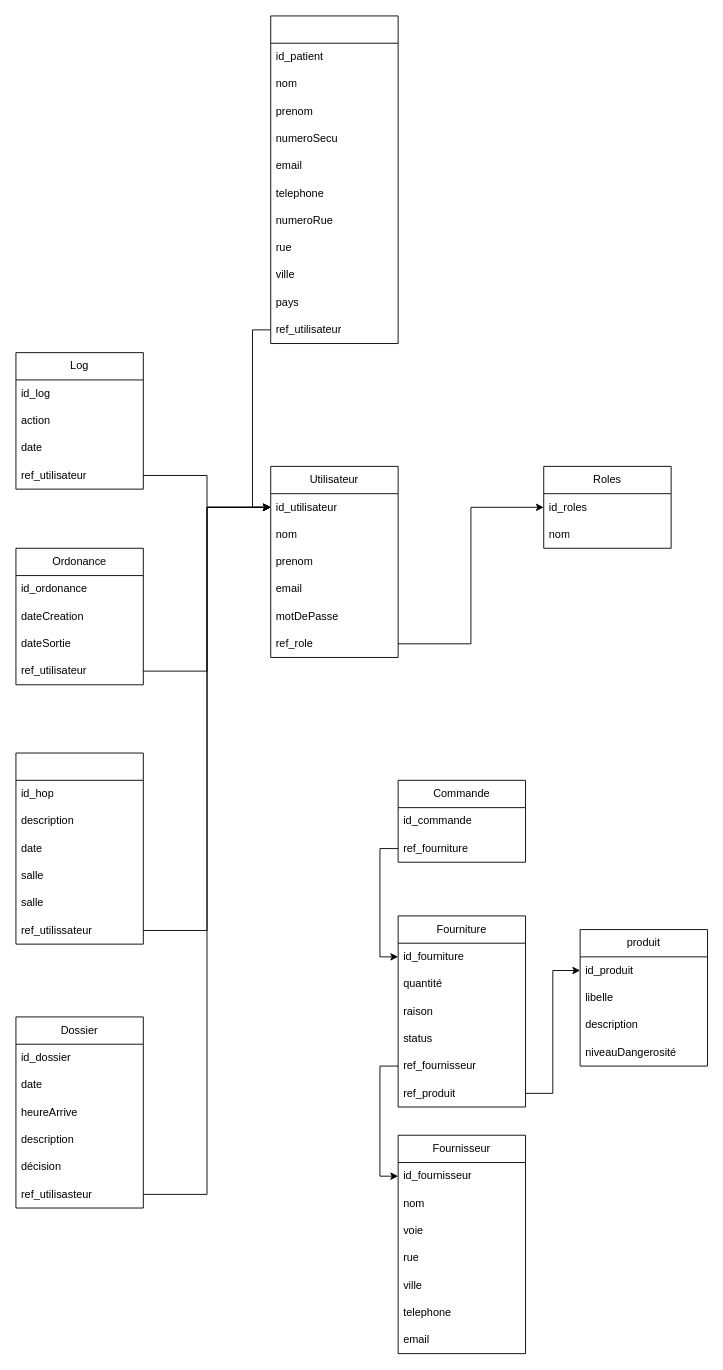
Some shapes in this 723 by 1370 pixel diagram are drawn without their labels. The shapes that lost their labels are listed below. From the top down, each one's box as (x1, y1, x2, y2) in pixels, then its label:
(270, 15, 398, 344): fiche_patient
(15, 752, 143, 944): hospitalisation
